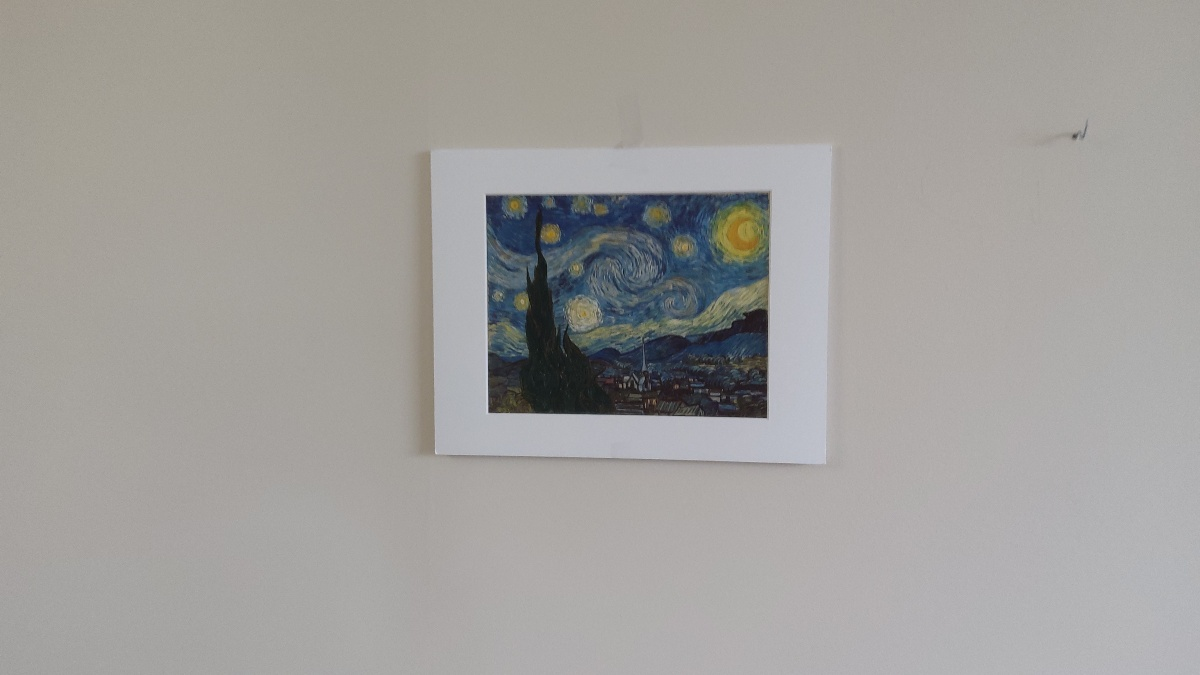painting: (483, 183, 780, 424)
